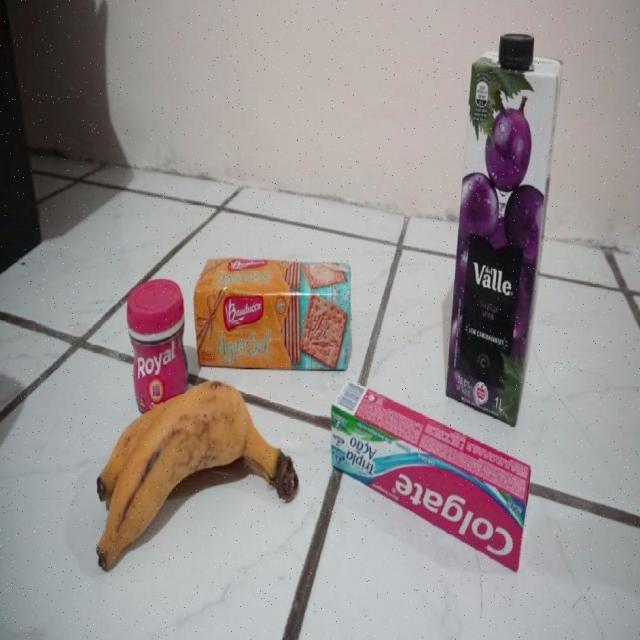Banana: (85, 386, 308, 565)
Cracker: (192, 257, 354, 376)
Toothpaste: (330, 382, 532, 580)
Yeast: (126, 282, 189, 398)
